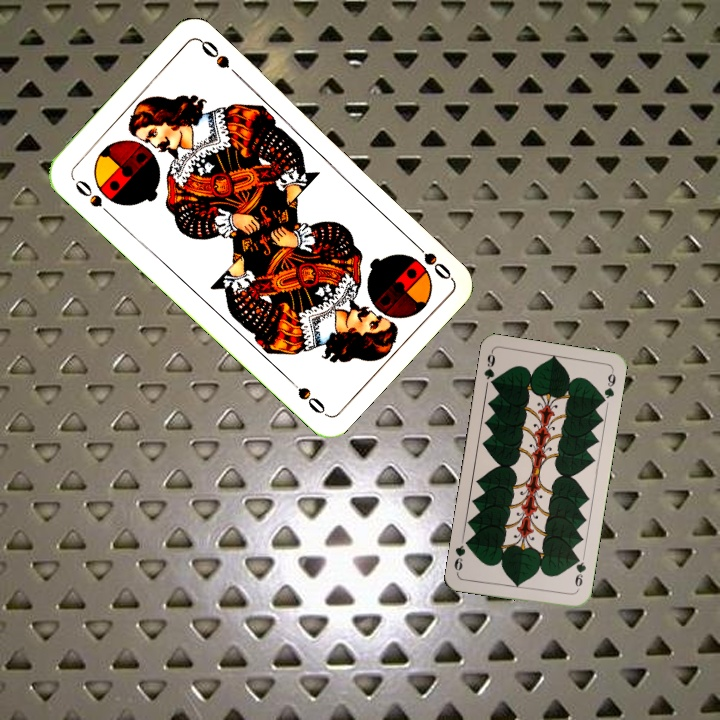G9: (571, 552, 589, 594), (480, 348, 498, 390)
SO: (406, 235, 454, 283), (70, 175, 115, 219)
